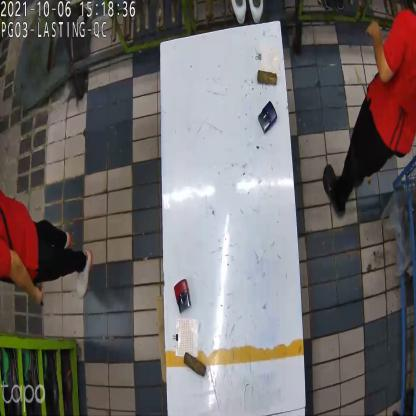stamp: (174, 279, 193, 317), (259, 99, 278, 133)
